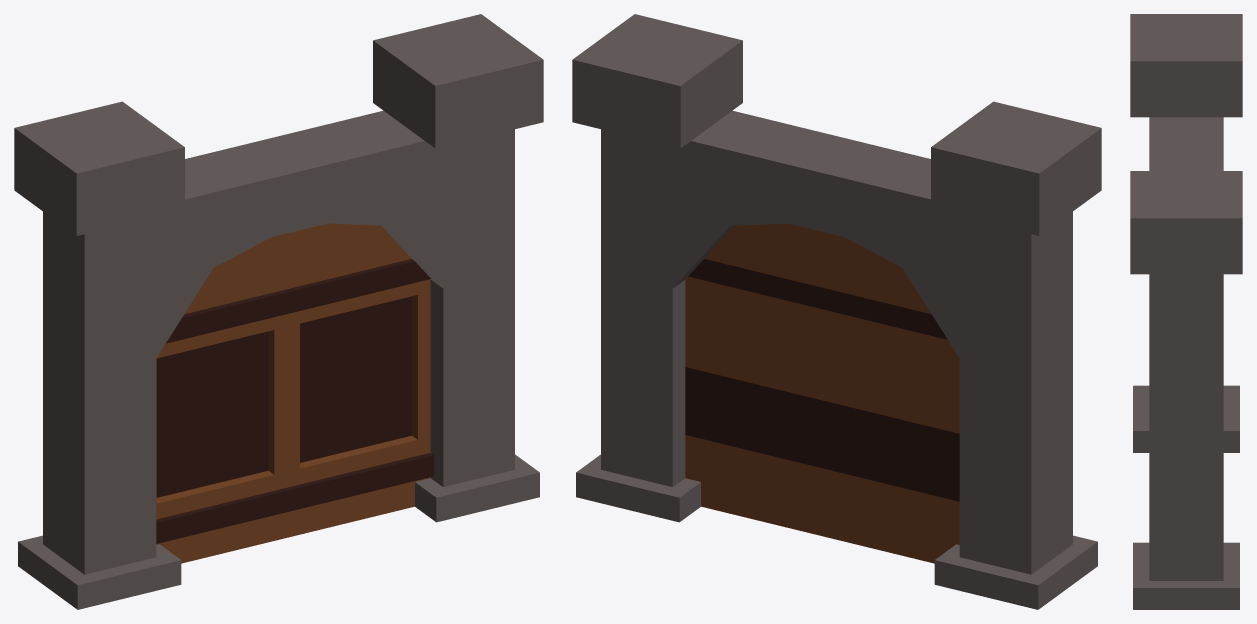
The model's file is MineEntrance.glb.
The picture shows the model from 3 angles, left to right: view 1: azimuth 30°, elevation 25°; view 2: azimuth 150°, elevation 25°; view 3: azimuth 270°, elevation 25°; orthographic projection. The views are drawn at different scales.
Visible parts, largest first — view 1: walls, door; view 2: walls, door; view 3: walls.
Part boxes in pixels (x1=…): walls: x1=14, y1=14, x2=543, y2=609; door: x1=156, y1=223, x2=433, y2=563; walls: x1=572, y1=14, x2=1101, y2=609; door: x1=685, y1=223, x2=959, y2=563; walls: x1=1130, y1=14, x2=1242, y2=609.
Size of the model in its own units: 13.02 by 11.67 by 3.02.
